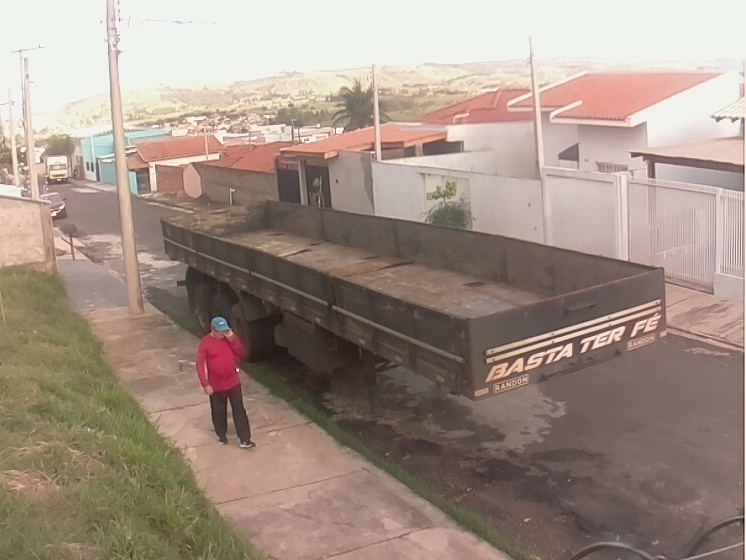person: (194, 316, 260, 452)
